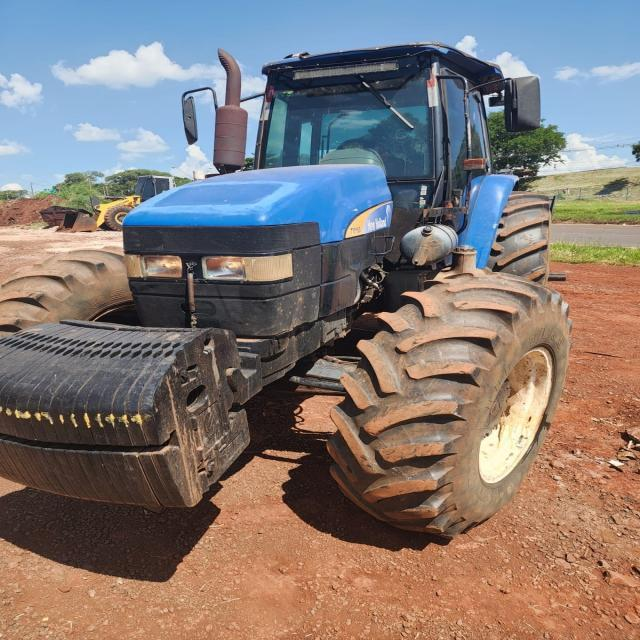Tratores - v5 YOLO V8L 2024-11-13: (0, 41, 570, 544)
